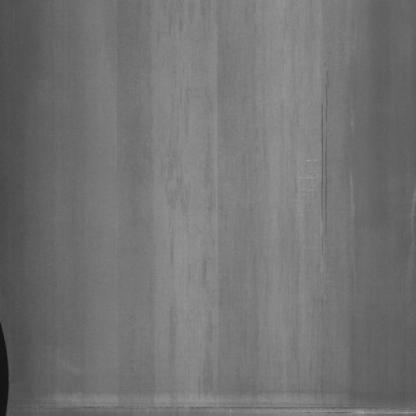welding_line: (6, 398, 416, 414)
